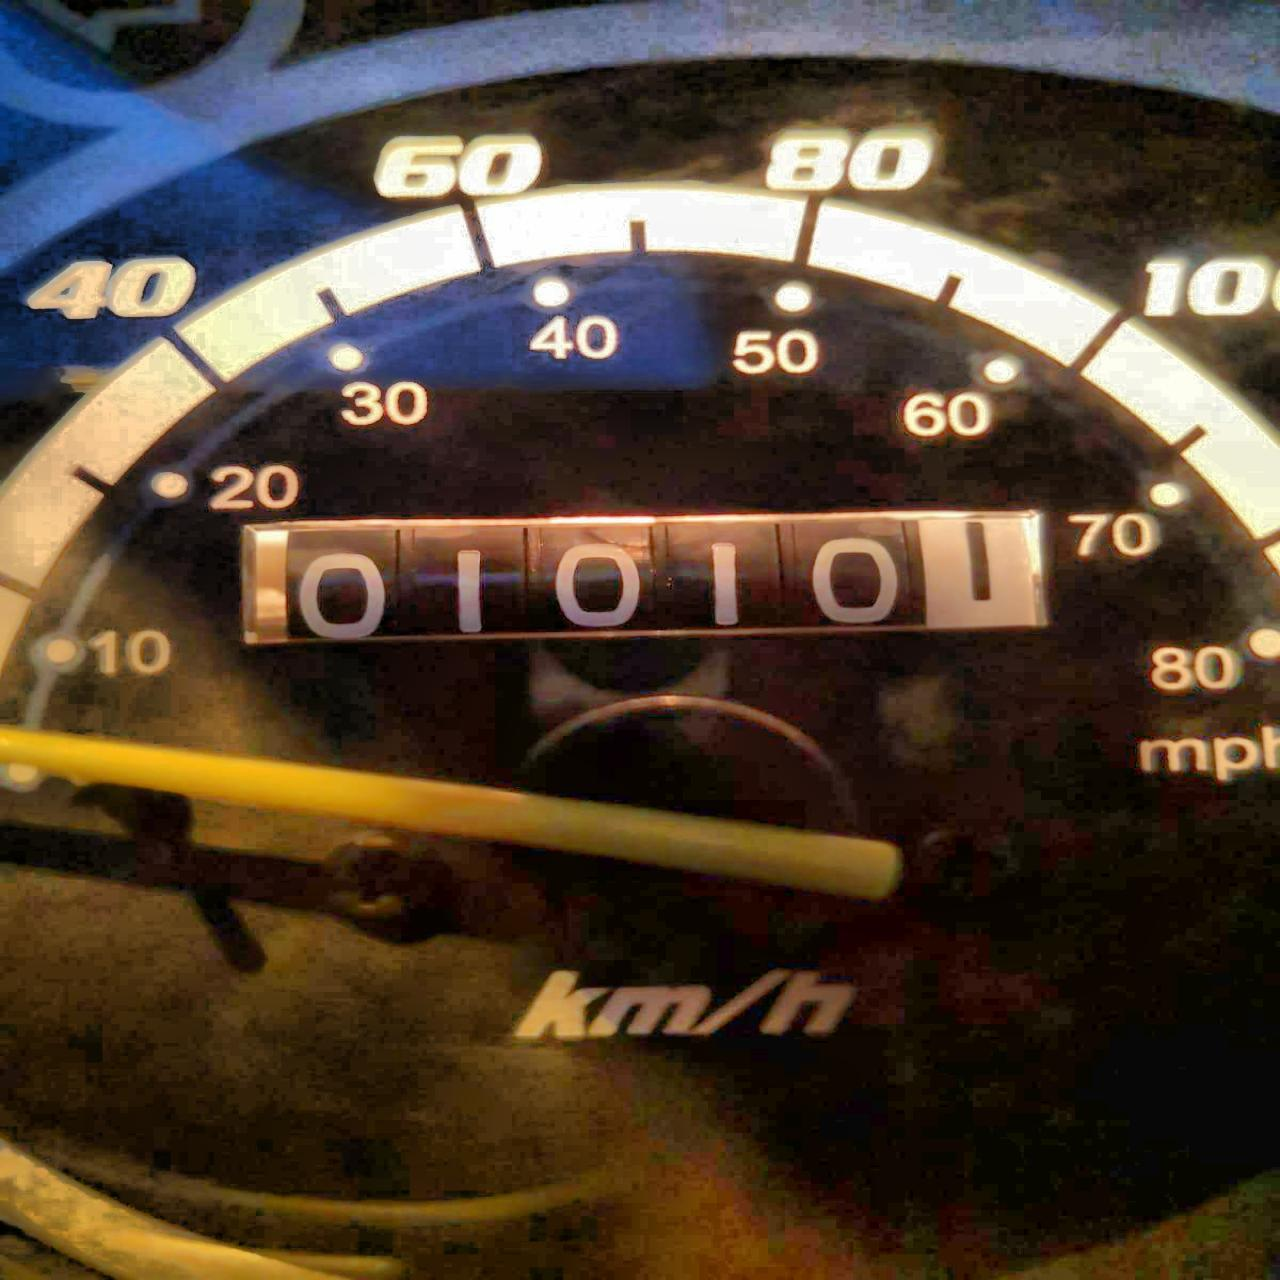0: (291, 532, 394, 646), (802, 529, 905, 626), (551, 527, 647, 629)
1: (939, 512, 1015, 626), (690, 523, 767, 633), (438, 533, 502, 639)
odometer: (225, 501, 1074, 658)
